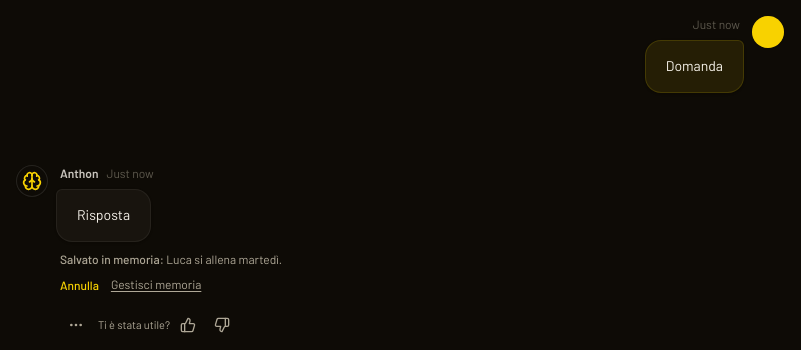
it: MessageList rendered interactions › shows the actual saved fact with exact-revision undo and memory controls
Expected: the text "Salvato in memoria:" is shown, [60,252,164,266]
Expected: the text "Salvato in memoria: Luca si allena martedì." is shown, [60,250,282,269]
Step 1. Click the button "Annulla" → (79, 285), box [60,269,99,301]
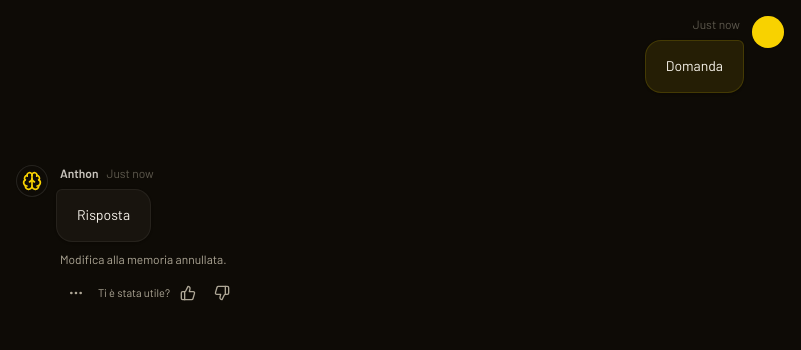
Expected: the text "Modifica alla memoria annullata." is shown, [60,250,227,269]
